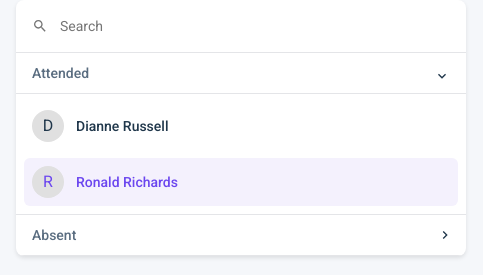
Test: List Component › Base functionality › filters items based on search term - by name
The width and height of the screenshot is (483, 275).
Type "Dianne" into the field with placeholder "Search".
click(218, 26); type("Dianne")  # box x1=32 y1=16 x2=404 y2=36
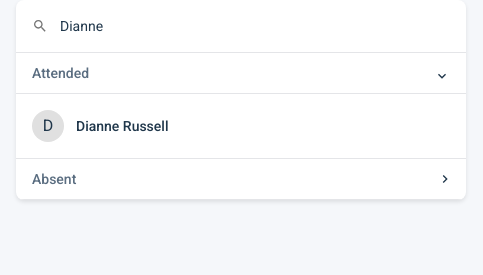
expect the text "Dianne Russell" is shown: met, box x1=76 y1=118 x2=168 y2=134
expect the text "Ronald Richards" is gone: met
Clear the field with placeholder "Search" at [218, 26], box x1=32 y1=16 x2=404 y2=36
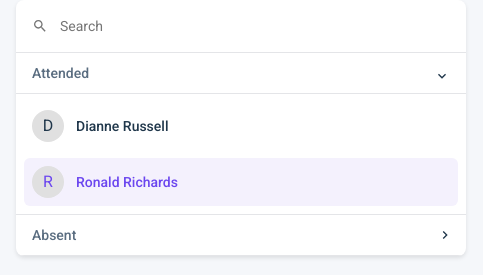
expect the text "Dianne Russell" is shown: met, box x1=76 y1=118 x2=168 y2=134
expect the text "Ronald Richards" is shown: met, box x1=76 y1=174 x2=178 y2=190
